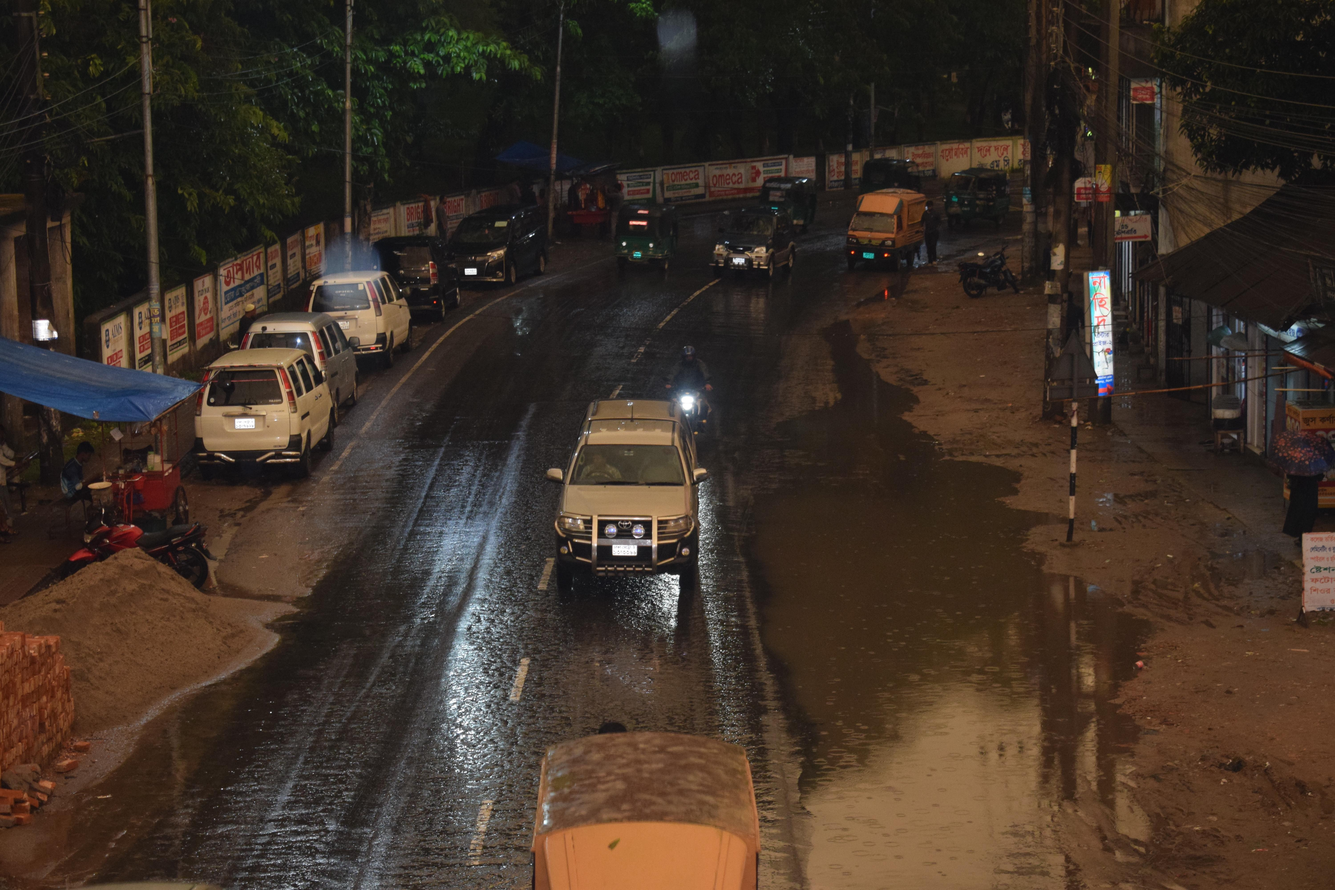Bike: (43, 501, 243, 601), (941, 242, 1033, 314)
Car: (446, 697, 816, 890), (512, 362, 761, 627), (164, 335, 345, 512), (284, 252, 430, 392), (224, 297, 395, 414), (822, 170, 962, 309), (686, 188, 827, 313), (435, 186, 578, 307), (357, 222, 480, 352)
